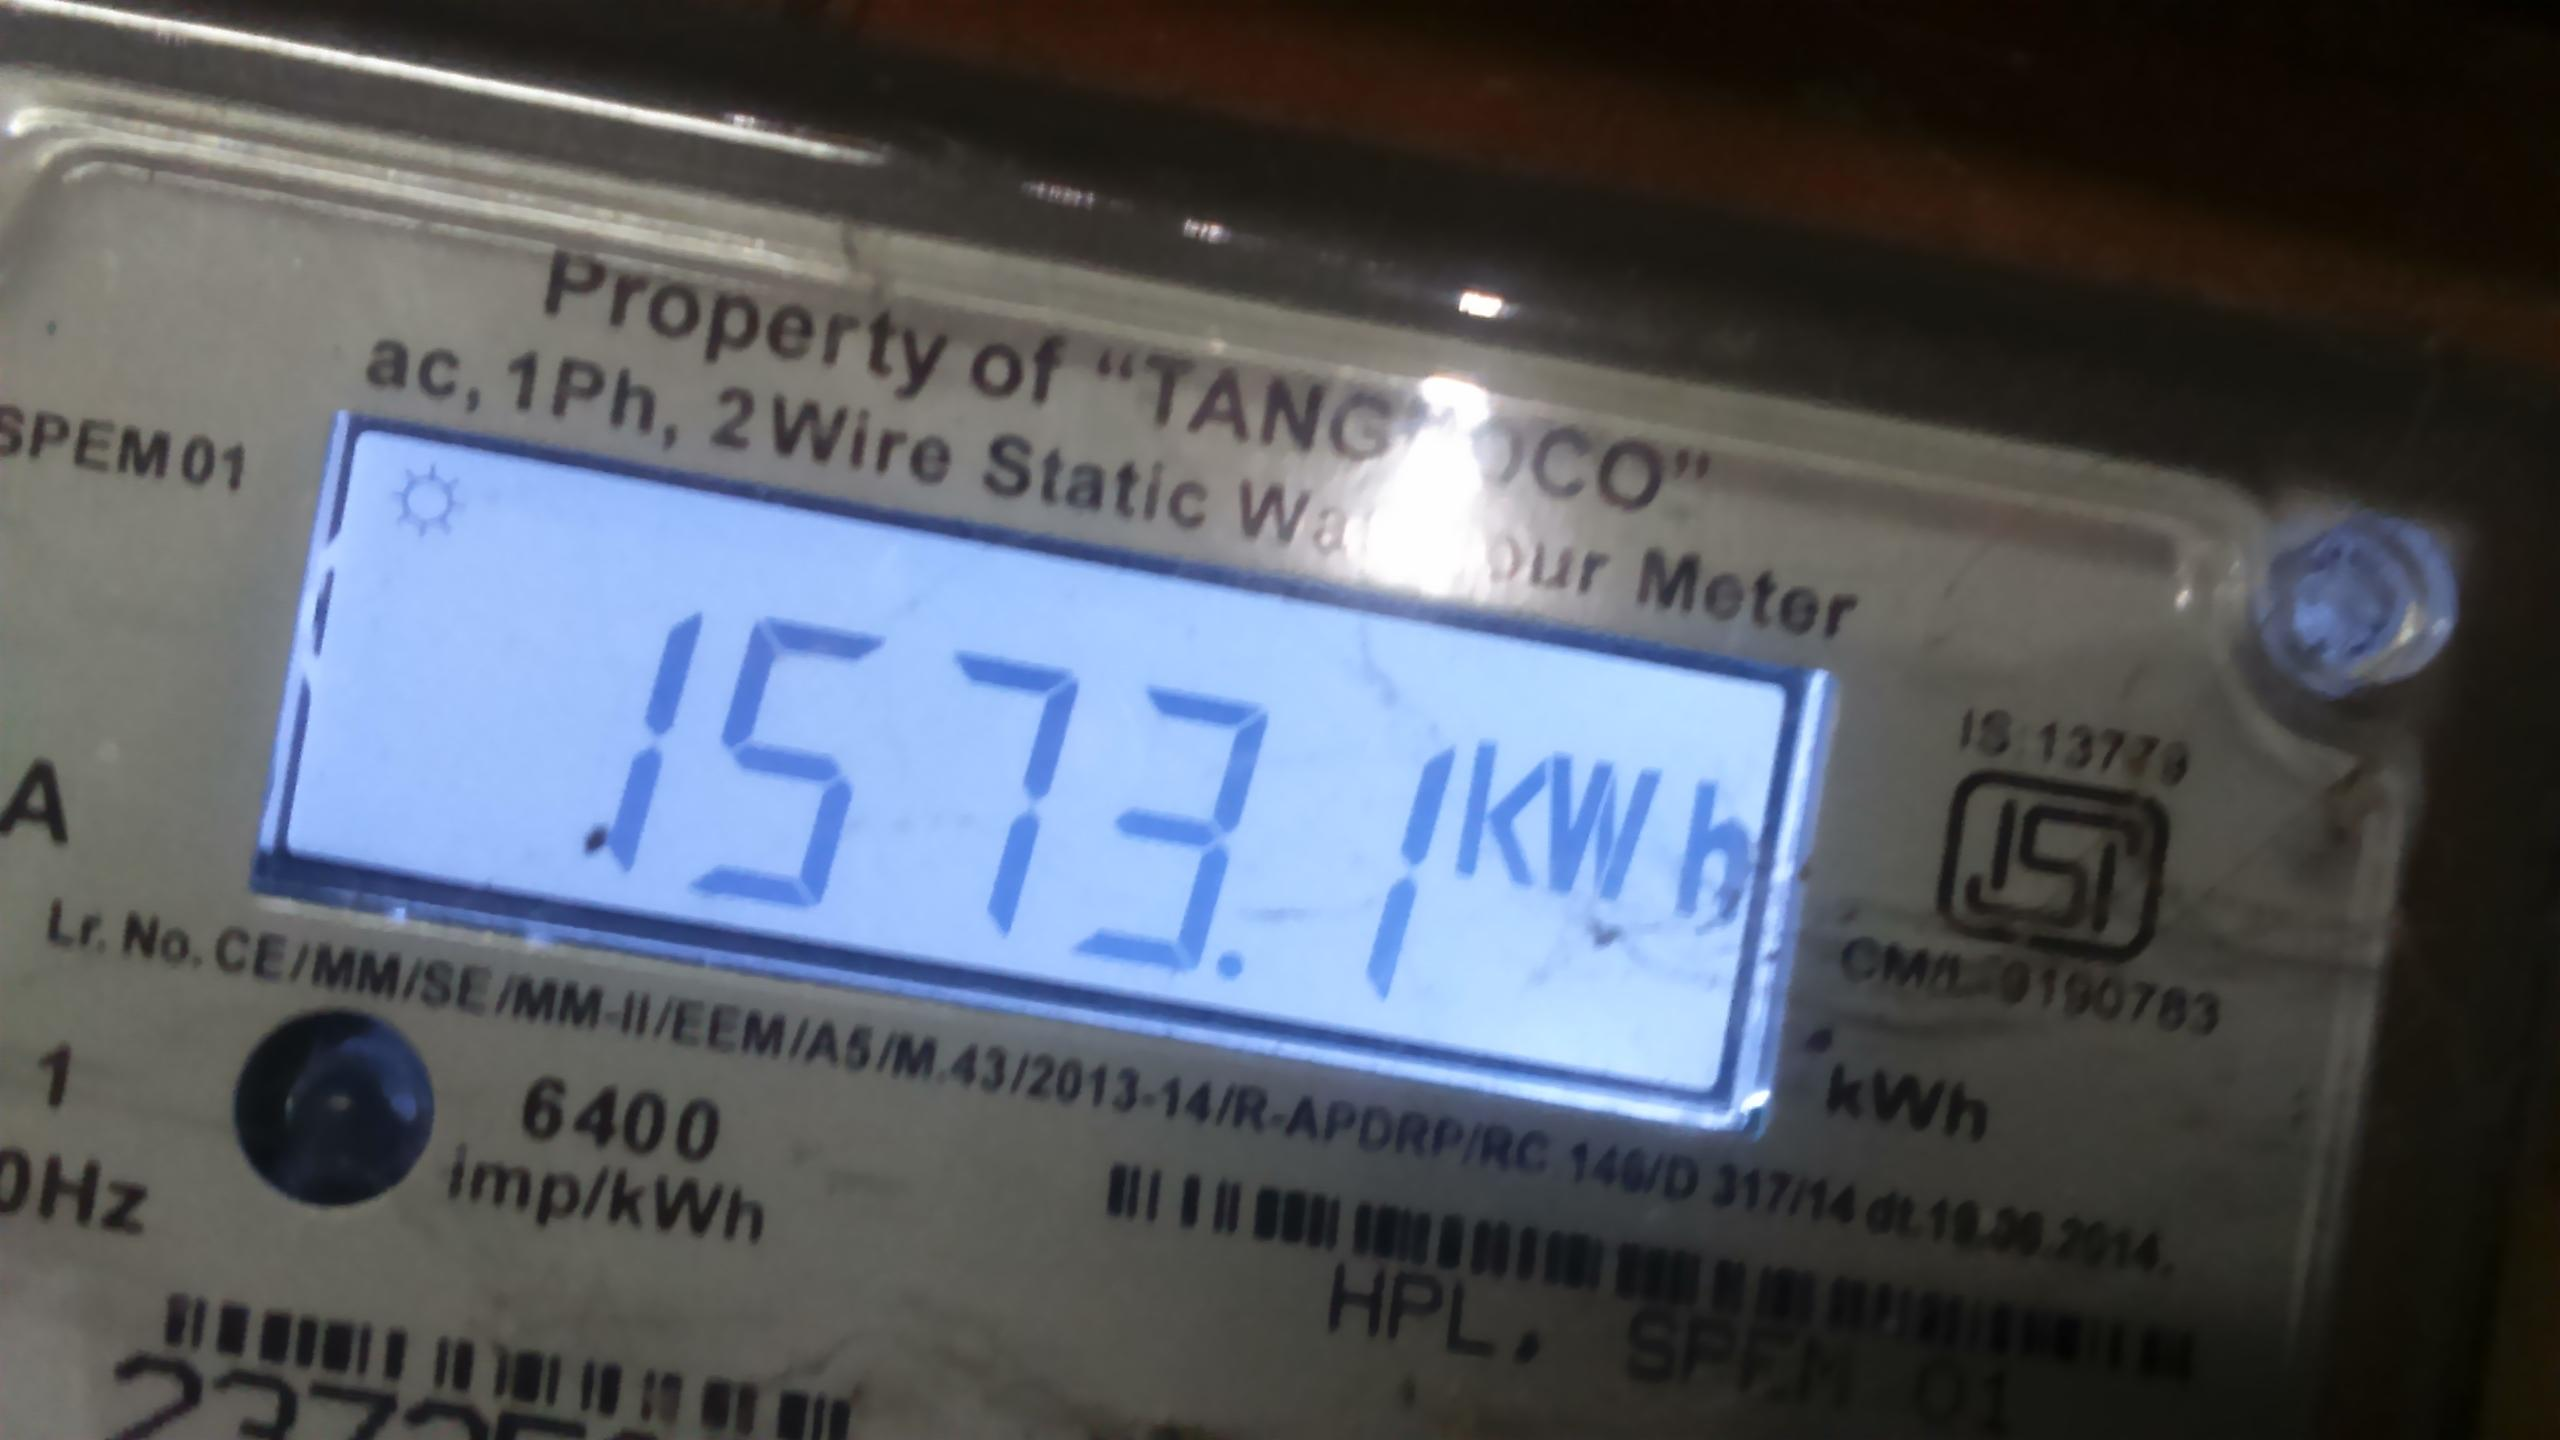.: (1458, 732, 1771, 911)
0: (1178, 898, 1258, 1006)
2: (578, 568, 737, 956), (1321, 728, 1482, 1032)
4: (1038, 643, 1277, 942)
6: (708, 568, 892, 929)
8: (944, 568, 1112, 932)
